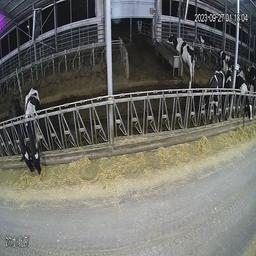cow: (23, 87, 43, 173), (8, 98, 29, 175), (168, 35, 197, 84), (203, 69, 228, 122), (227, 75, 241, 121), (220, 46, 236, 80), (239, 84, 249, 129)
